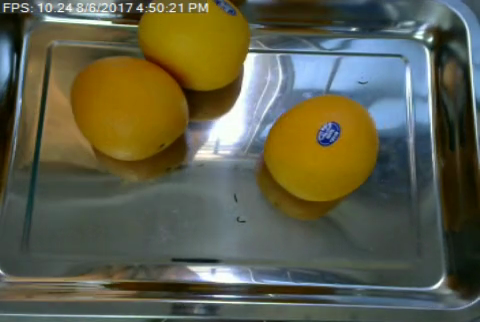Orange: (263, 93, 379, 201), (66, 52, 183, 159), (135, 0, 249, 90)
